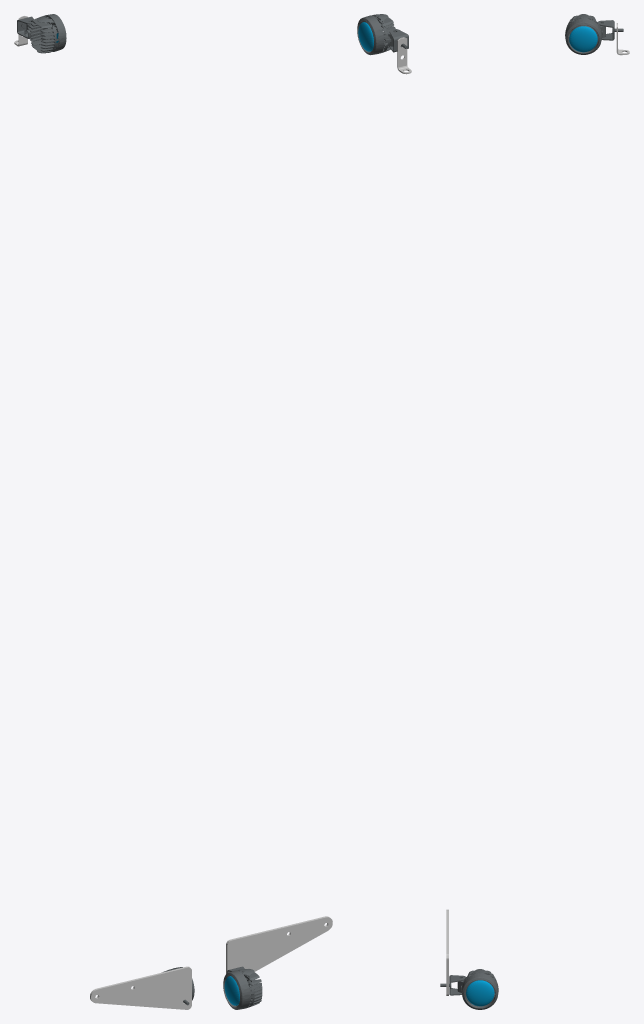
The model's file is worklight.obj.
3 renders of one model, left to right at view 1: azimuth 30°, elevation 25°; view 2: azimuth 210°, elevation 25°; view 3: azimuth 270°, elevation 25°, orthographic. The views are drawn at different scales.
Visible parts, largest first — view 1: obj_3, obj_2; view 2: obj_3, obj_2, obj_5; view 3: obj_5, obj_2, obj_4, obj_1.
Part boxes in pixels (left/top/right/bottom): obj_3: left=90, top=966, right=191, bottom=1009; obj_2: left=17, top=14, right=66, bottom=53; obj_3: left=226, top=916, right=332, bottom=973; obj_2: left=357, top=14, right=408, bottom=55; obj_5: left=223, top=966, right=262, bottom=1009; obj_5: left=440, top=969, right=498, bottom=1009; obj_2: left=565, top=14, right=623, bottom=54; obj_4: left=466, top=980, right=494, bottom=1006; obj_1: left=569, top=26, right=597, bottom=52.
Size of the model in its own units: 12.68 by 102 by 18.36.
